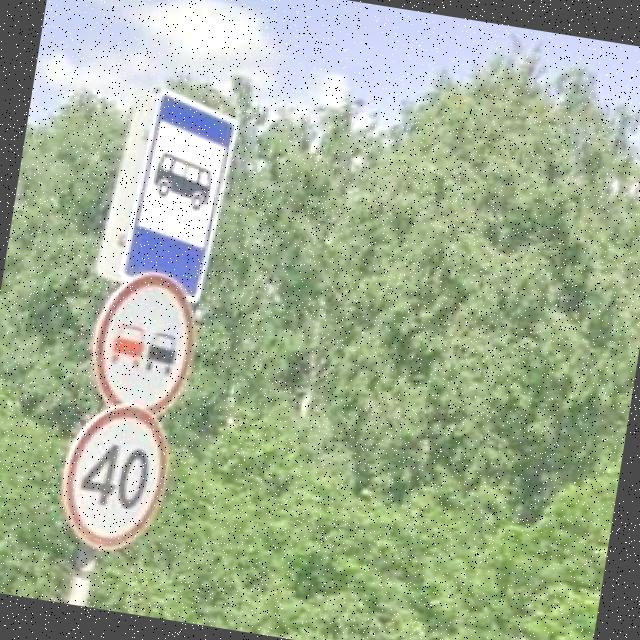Ograniczenie predkosci do 40: (52, 395, 178, 558)
